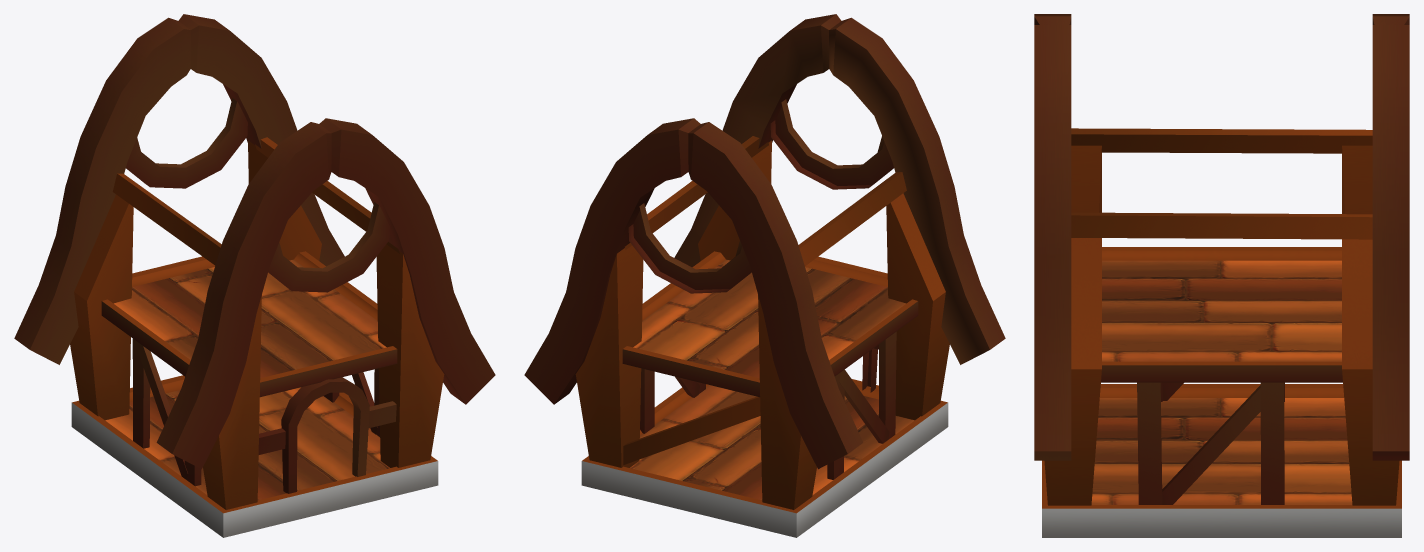
Rendered from VikingHouse_01_XL.fbx.
The picture shows the model from 3 angles, left to right: view 1: azimuth 30°, elevation 25°; view 2: azimuth 150°, elevation 25°; view 3: azimuth 270°, elevation 25°; orthographic projection. The views are drawn at different scales.
Parts seen in each view (by area): view 1: VikingHouse_01_XL; view 2: VikingHouse_01_XL; view 3: VikingHouse_01_XL.
Part boxes in pixels (left/top/right/bottom): VikingHouse_01_XL: left=14, top=14, right=495, bottom=537; VikingHouse_01_XL: left=524, top=14, right=1005, bottom=537; VikingHouse_01_XL: left=1034, top=14, right=1409, bottom=537.
Bounding box in the file's own units: 275 × 311 × 233.
1 material, 1 textured.
